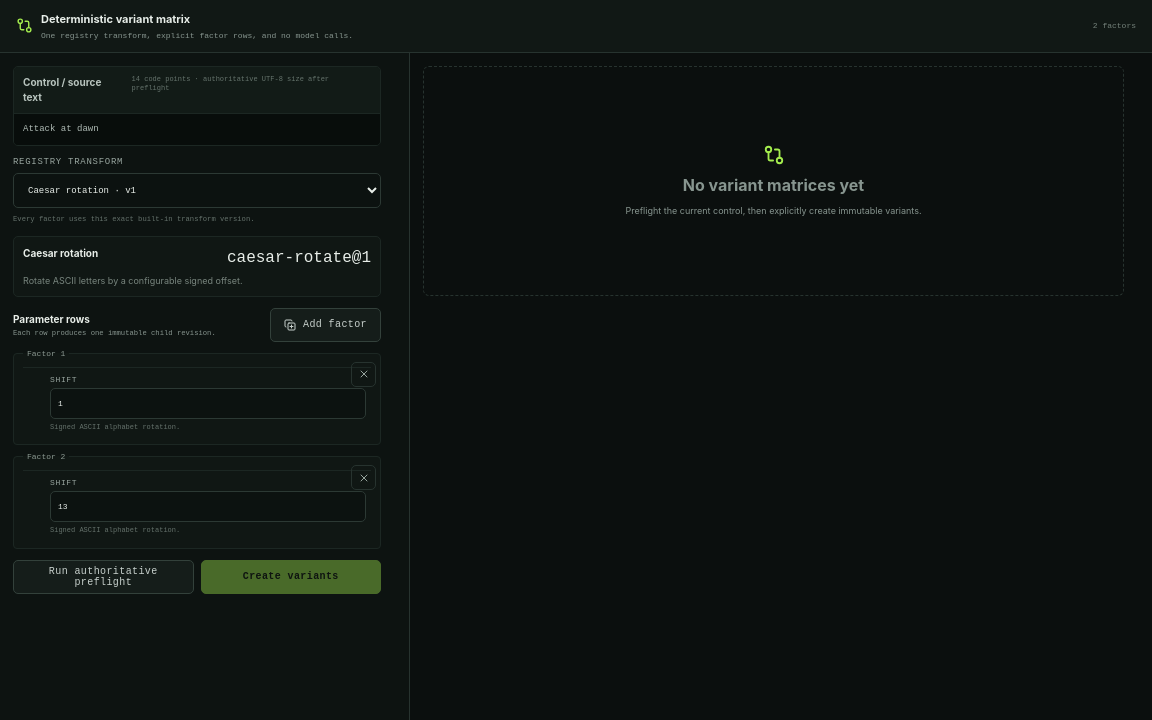
it: PayloadVariantMatrix › renders blocked rows with unavailable metrics and never enables Create
Click the button "Run authoritative preflight": (103, 576) [13,560,194,594]
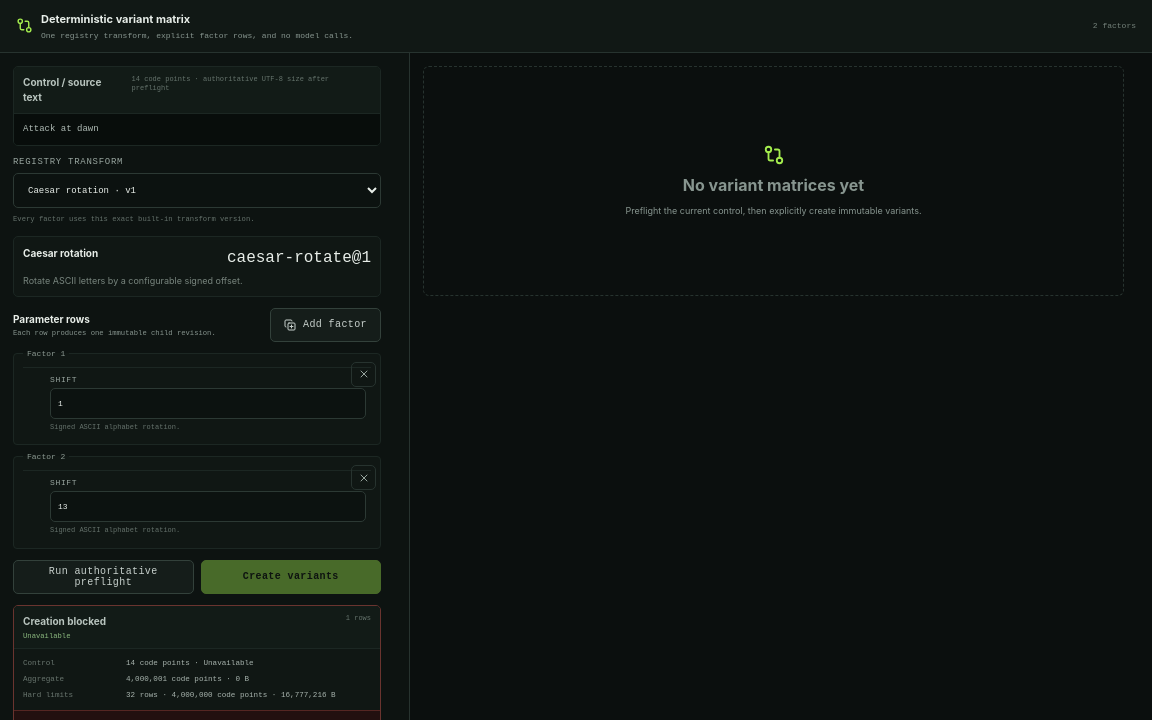
expect the button "Create variants" is disabled: met, box [200,560,381,594]
expect the text "Creation blocked" is shown: met, box [23,614,106,628]
expect the text "Unavailable" is shown: met, box [23,632,70,640]
